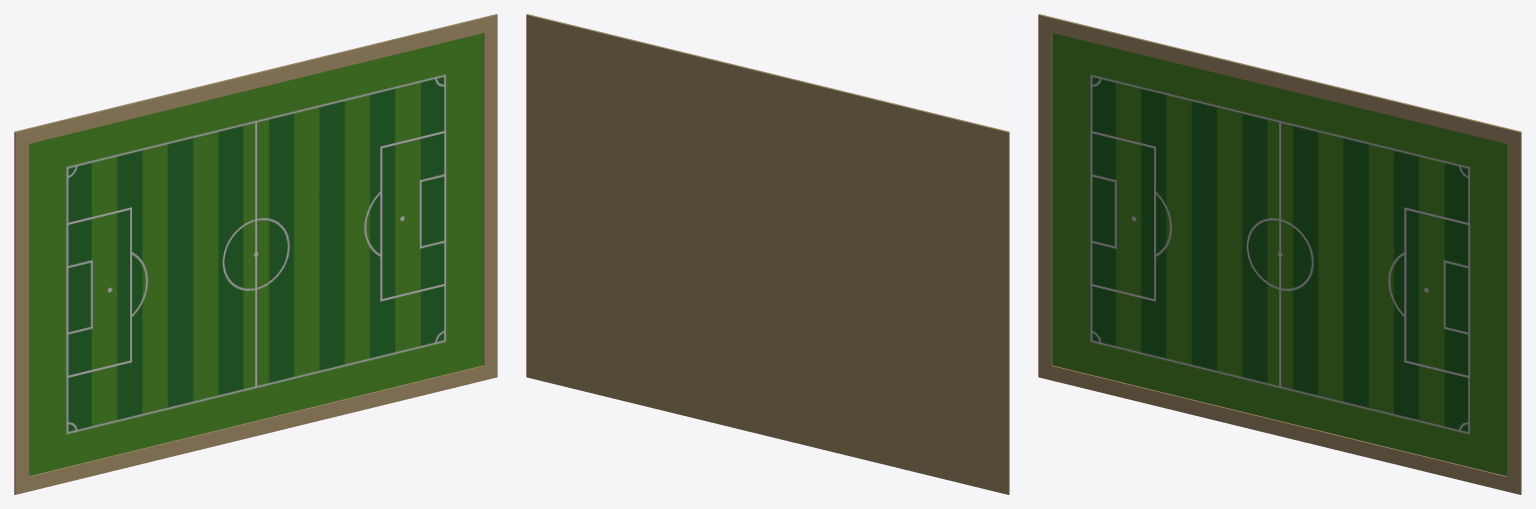
Rendered from Field.glb.
The picture shows the model from 3 angles, left to right: view 1: azimuth 30°, elevation 25°; view 2: azimuth 150°, elevation 25°; view 3: azimuth 330°, elevation 25°; orthographic projection.
Parts seen in each view (by area): view 1: Field, FieldWood; view 2: FieldWood; view 3: Field, FieldWood.
Boxes of the visible parts, x1,y1,x2,y2 form: Field: [29, 33, 483, 475]; FieldWood: [14, 14, 497, 494]; FieldWood: [526, 14, 1009, 494]; Field: [1052, 33, 1506, 475]; FieldWood: [1038, 14, 1521, 494].
Size of the model in its own units: 94.99 by 68.18 by 0.4358.
Materials: 2 (1 with a texture image).
